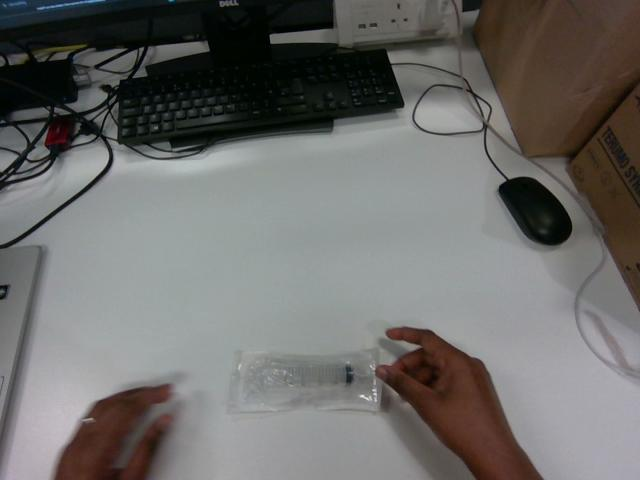syringe: (227, 348, 379, 412)
